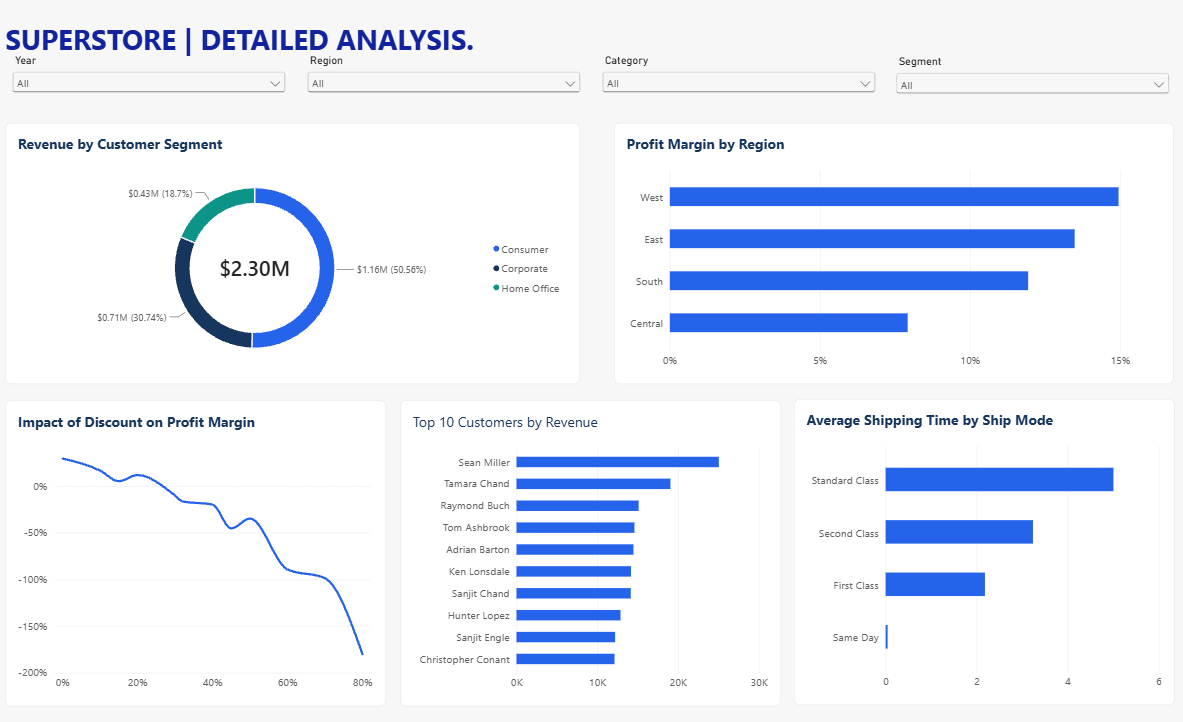

Layout of this report page (visuals, bound fields, positions):
{"tool":"powerbi","page":{"name":"Detailed Analysis","canvas":[1600,1000],"ordinal":1},"visuals":[{"type":"donutChart","title":"Revenue by Customer Segment","fields":{"Category":["superstore_cleaned.Segment"],"Y":["superstore_cleaned.Total Revenue"]},"box":[15.1,172.6,770,350],"z":0},{"type":"clusteredBarChart","title":"\tProfit Margin by Region","fields":{"Category":["superstore_cleaned.Region"],"Y":["superstore_cleaned.Overall Profit Margin"]},"box":[831.1,172.6,750,350],"z":1},{"type":"lineChart","title":"\tImpact of Discount on Profit Margin","fields":{"Category":["superstore_cleaned.Discount"],"Y":["superstore_cleaned.Overall Profit Margin"]},"box":[15.1,544.6,510,410],"z":2},{"type":"clusteredBarChart","title":"\tTop 10 Customers by Revenue","fields":{"Category":["superstore_cleaned.Customer Name"],"Y":["superstore_cleaned.Total Revenue"]},"box":[544.6,544.6,510,410],"z":3},{"type":"clusteredBarChart","title":"Average Shipping Time by Ship Mode","fields":{"Category":["superstore_cleaned.Ship Mode"],"Y":["superstore_cleaned.Average Shipping Days"]},"box":[1072.4,542.9,510,410],"z":4},{"type":"textbox","box":[15.1,35.2,940,70.4],"z":5},{"type":"slicer","fields":{"Values":["superstore_cleaned.Year"]},"box":[20,80,375,80],"z":6},{"type":"slicer","fields":{"Values":["superstore_cleaned.Region"]},"box":[415,80,375,80],"z":7},{"type":"slicer","fields":{"Values":["superstore_cleaned.Category"]},"box":[811,80,375,80],"z":8},{"type":"slicer","fields":{"Values":["superstore_cleaned.Segment"]},"box":[1205,82.1,375,80],"z":9}]}

Visuals, with their boxes in screenshot pixels (x1, y1, x2, y2), scaled from the page's 1600x1000 canvas onto the 1183x722 screenshot:
"Revenue by Customer Segment" donutChart: [11, 125, 580, 377]
"	Profit Margin by Region" clusteredBarChart: [614, 125, 1169, 377]
"	Impact of Discount on Profit Margin" lineChart: [11, 393, 388, 689]
"	Top 10 Customers by Revenue" clusteredBarChart: [403, 393, 780, 689]
"Average Shipping Time by Ship Mode" clusteredBarChart: [793, 392, 1170, 688]
textbox: [11, 25, 706, 76]
slicer - superstore_cleaned.Year: [15, 58, 292, 116]
slicer - superstore_cleaned.Region: [307, 58, 584, 116]
slicer - superstore_cleaned.Category: [600, 58, 877, 116]
slicer - superstore_cleaned.Segment: [891, 59, 1168, 117]
